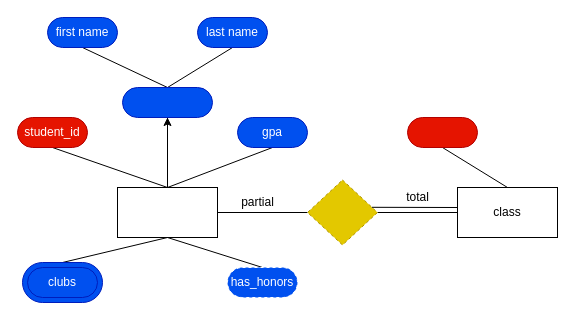
Some shapes in this 575 by 320 pixel diagram are drawn without their labels. The shapes that lost their labels are listed below. From the top down, each one's box as (x1, y1, x2, y2) in pixels, then its label:
(122, 86, 212, 118): name
(406, 116, 478, 148): class_id
(116, 186, 218, 238): Student
(306, 179, 378, 245): Takes
